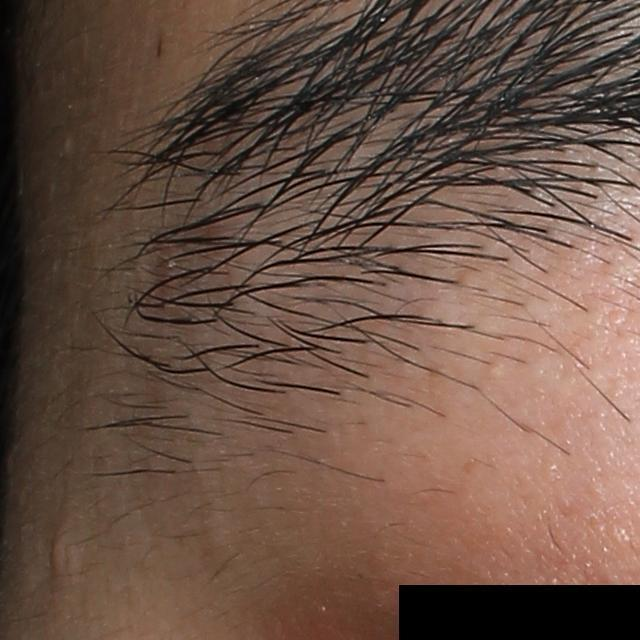nevus: (153, 31, 165, 61)
papule: (43, 527, 70, 572)
